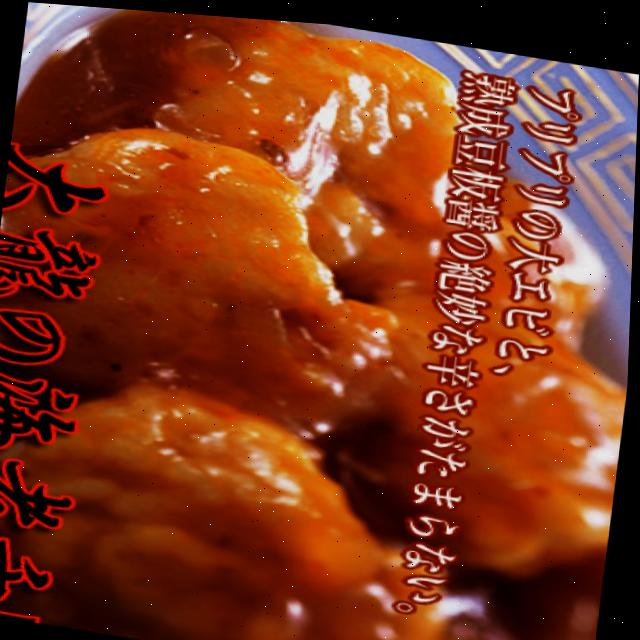熟制海鲜: (66, 5, 462, 640)
